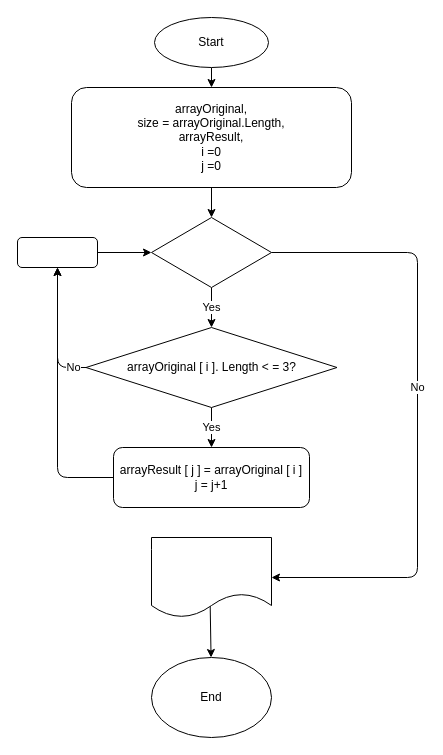
Some shapes in this 443 by 755 pixel diagram are drawn without their labels. Here are the shapes that lost their labels. From the top down, the centre of each, then its label:
At (x=57, y=252): "i = i +1".
At (x=211, y=252): "i < size".
At (x=211, y=577): "arrayResult".
